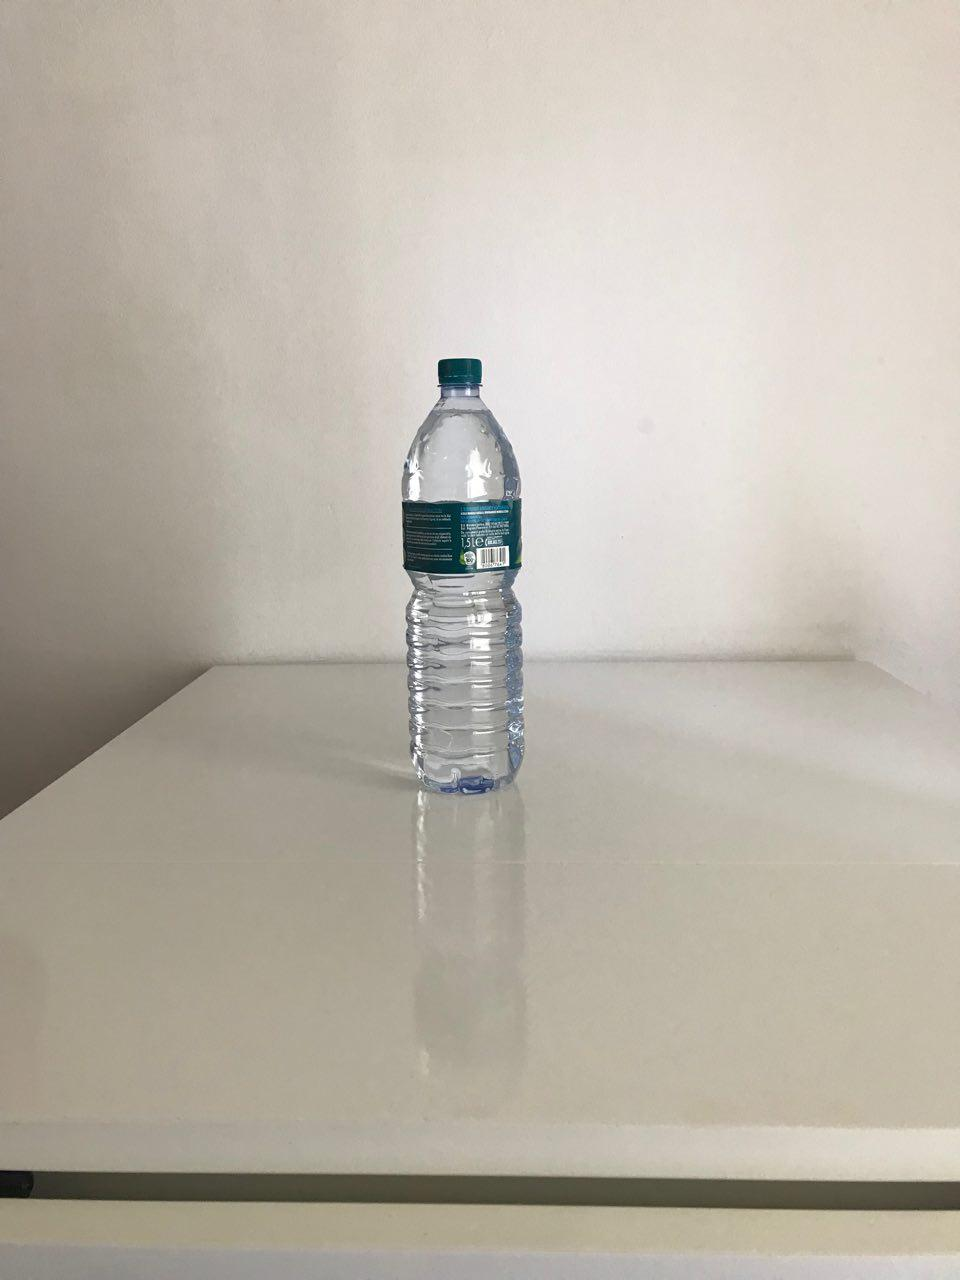san_bernardo: (400, 357, 528, 796)
